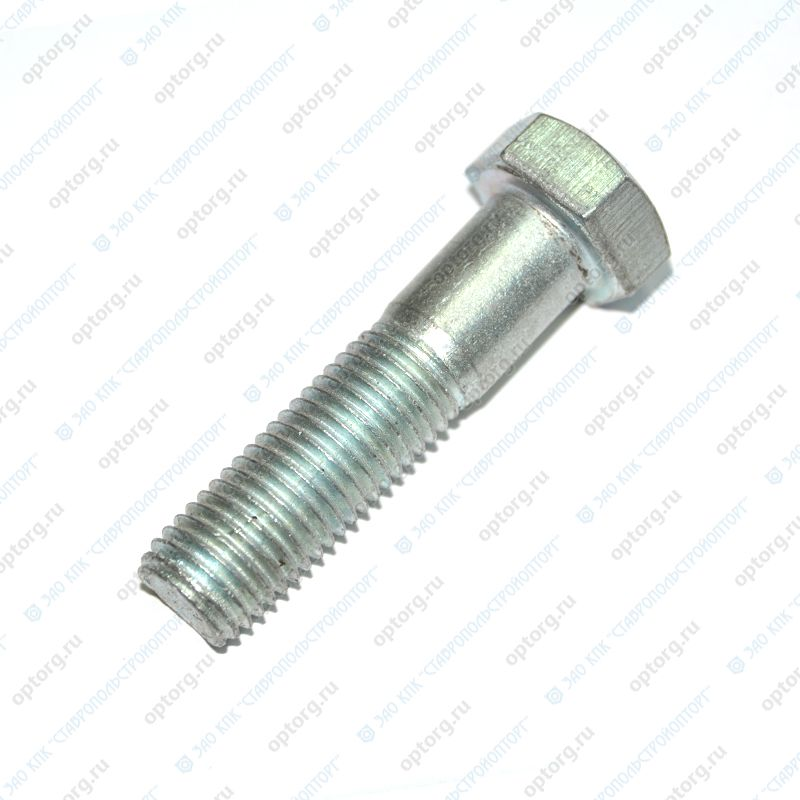screw: (137, 111, 671, 652)
